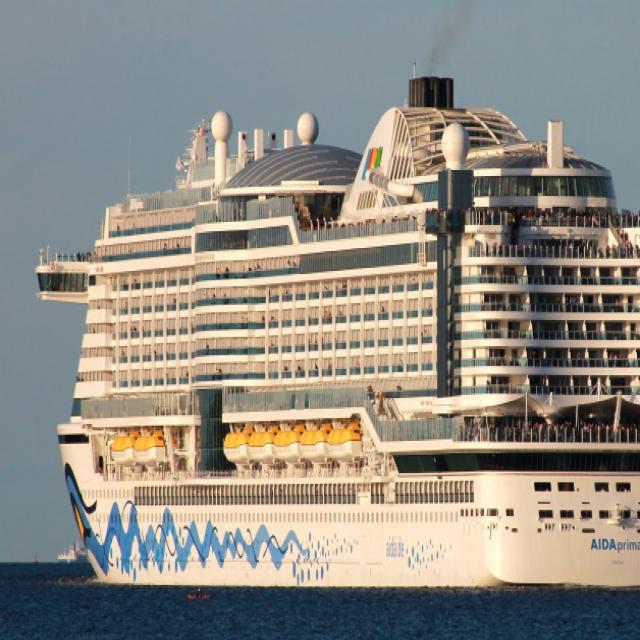cruises: (31, 60, 640, 599)
